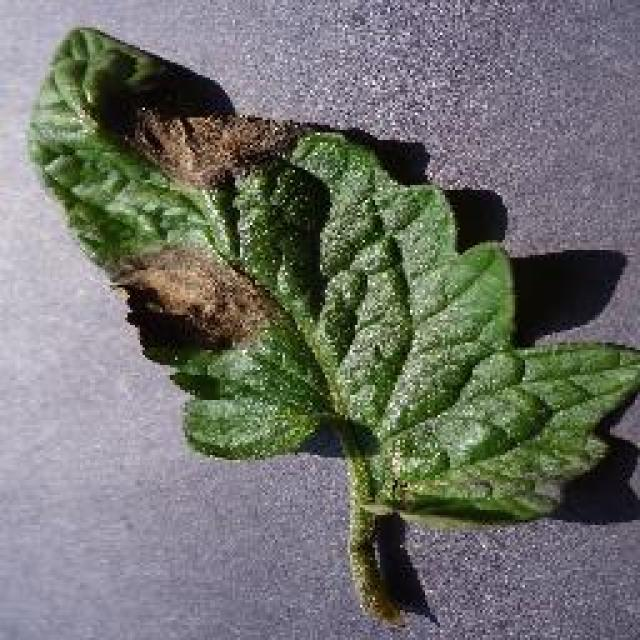Tomato Late Blight: (62, 59, 410, 384)
